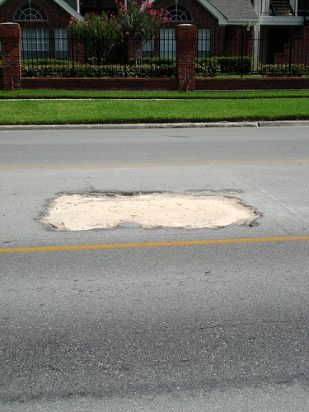pothole: (30, 185, 262, 235)
